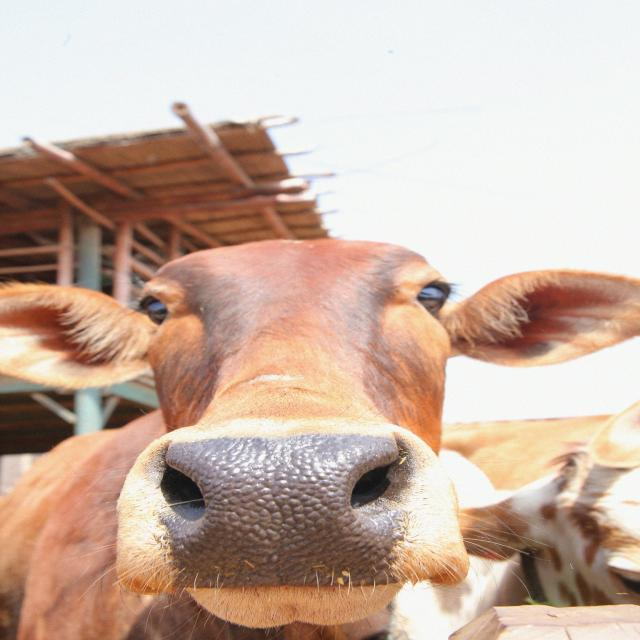muzzles: (160, 432, 418, 591)
